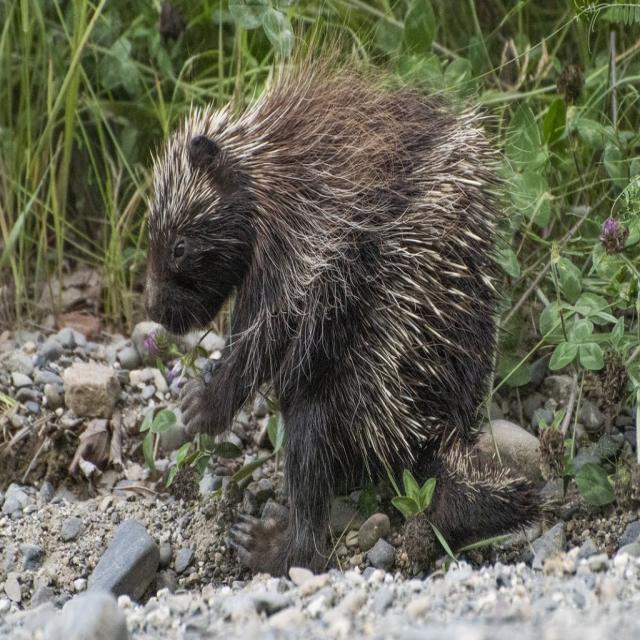Porcupine: (141, 71, 486, 513)
